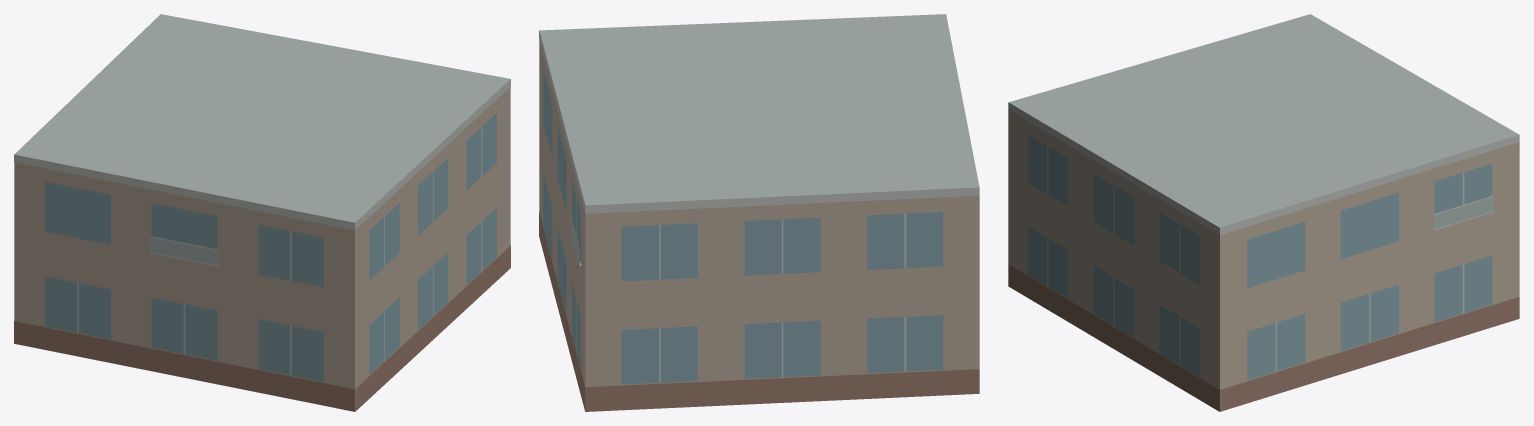
Rendered from survey-upis-32711925.glb.
3 renders of one model, left to right at view 1: azimuth 30°, elevation 25°; view 2: azimuth 150°, elevation 25°; view 3: azimuth 270°, elevation 25°, orthographic. The views are drawn at different scales.
Visible parts, largest first — view 1: survey-upis-32711925.tmp; view 2: survey-upis-32711925.tmp; view 3: survey-upis-32711925.tmp.
Part boxes in pixels (<box>): survey-upis-32711925.tmp: <box>14,14,510,411</box>; survey-upis-32711925.tmp: <box>539,14,979,411</box>; survey-upis-32711925.tmp: <box>1008,14,1519,411</box>.
Size of the model in its own units: 15.2 by 6.1 by 15.36.
